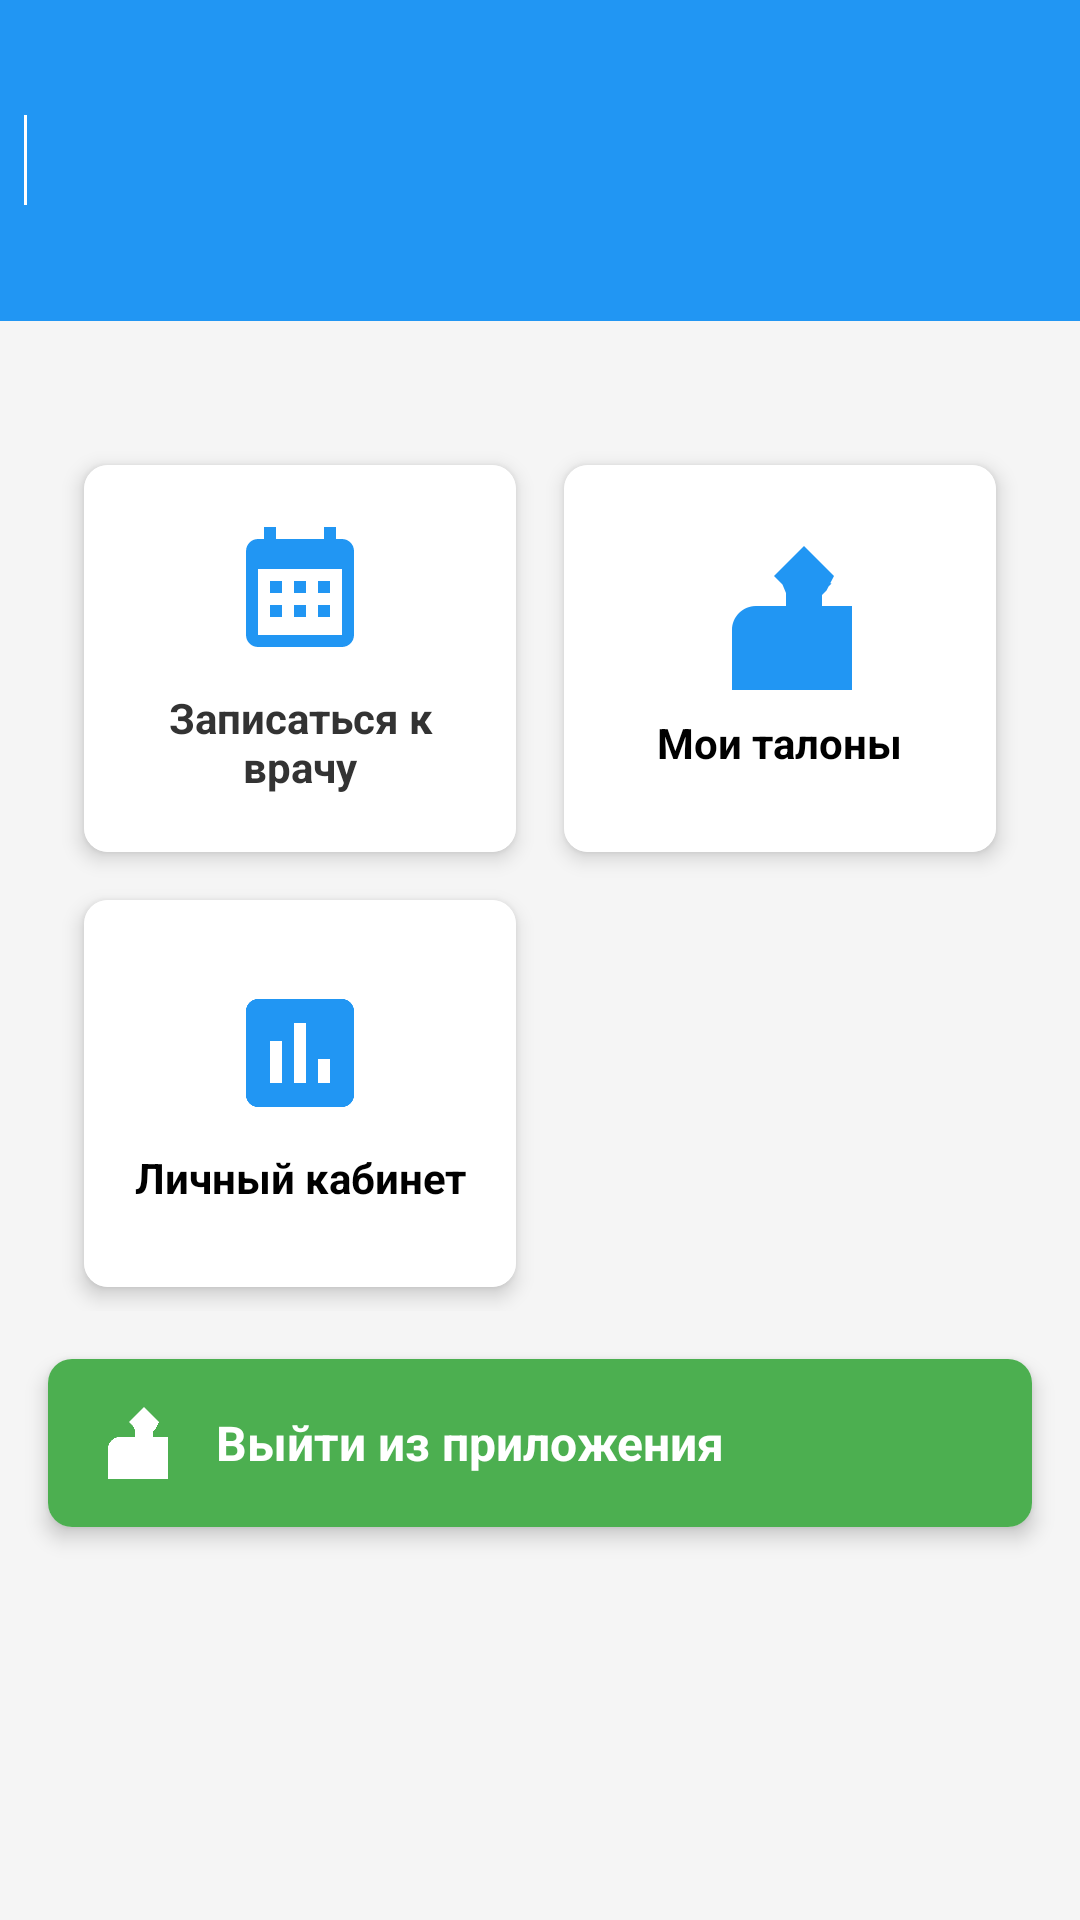

Named icons in this screenshot (1080 × 1920) and their bounding boxes, (x1, y1, x2, y2):
appointment: (246, 527, 354, 647)
